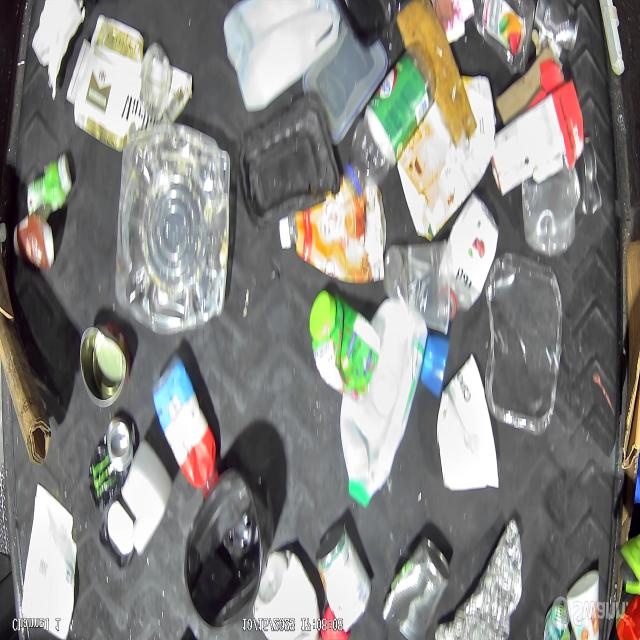can: (381, 547, 447, 640), (320, 529, 366, 637), (78, 317, 130, 410), (85, 420, 135, 508), (532, 0, 579, 53), (574, 139, 602, 217)
milk_jug: (341, 308, 425, 508), (225, 0, 340, 120)
non_white_jug: (278, 184, 386, 288), (160, 354, 213, 492)
plastic_bottle: (344, 58, 436, 202)
